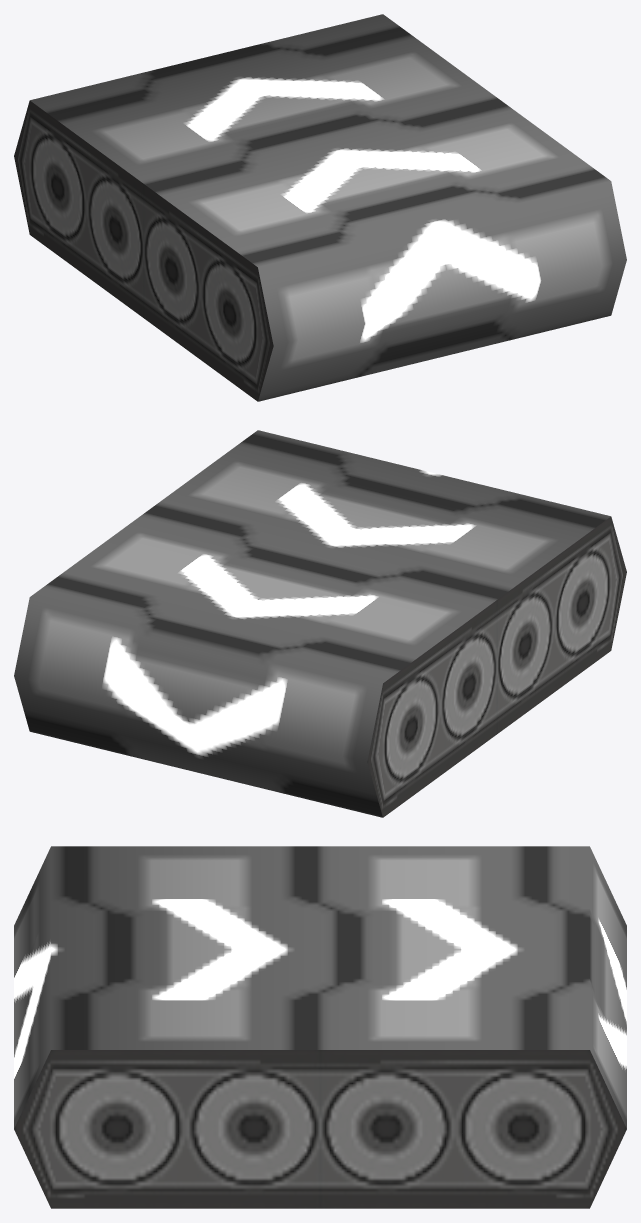
File: belt.glb
The picture shows the model from 3 angles, top to bottom: view 1: azimuth 30°, elevation 25°; view 2: azimuth 150°, elevation 25°; view 3: azimuth 270°, elevation 25°; orthographic projection. The views are drawn at different scales.
Visible parts, largest first — view 1: Plane.022, Plane.023; view 2: Plane.022, Plane.023; view 3: Plane.022, Plane.023.
Part boxes in pixels (x1,y1,x2,y2): Plane.022: (30, 14, 626, 401); Plane.023: (14, 100, 273, 401); Plane.022: (14, 430, 610, 817); Plane.023: (367, 516, 626, 817); Plane.022: (14, 846, 626, 1128); Plane.023: (14, 1050, 626, 1208).
Size of the model in its own units: 5.5 by 2 by 7.
2 materials, 2 textured.
